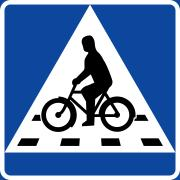Cycle Crossing: (9, 27, 173, 162)
